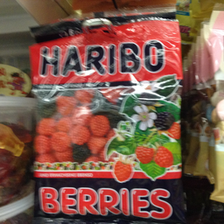candy: (31, 16, 185, 222)
